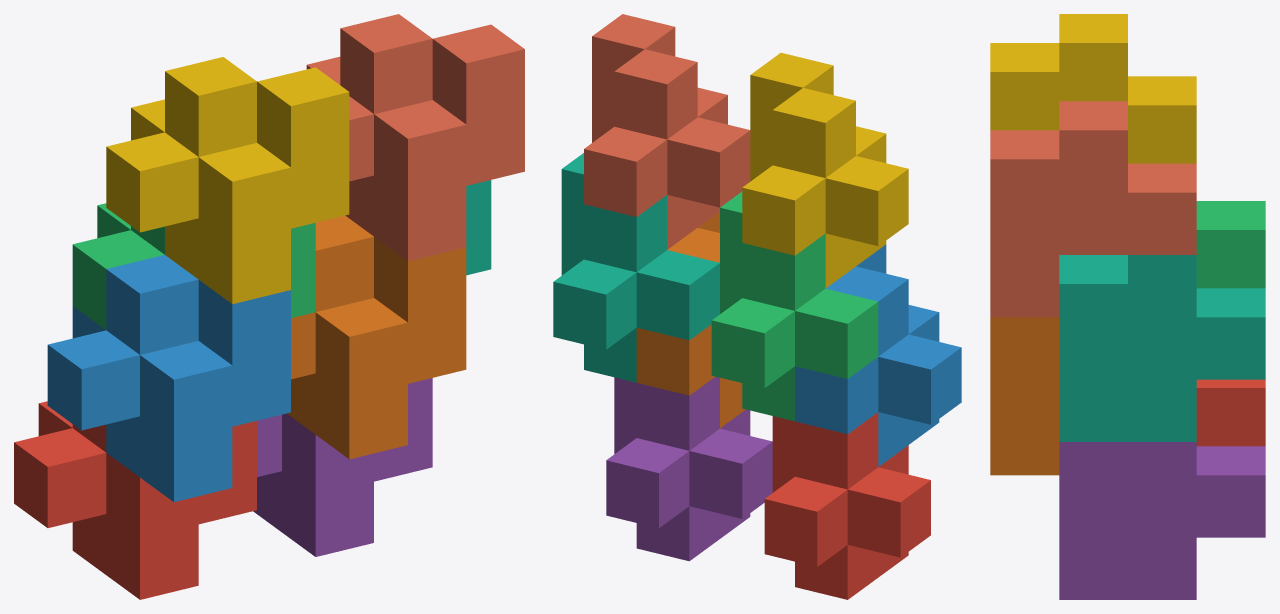
File: tiling.obj
The picture shows the model from 3 angles, left to right: view 1: azimuth 30°, elevation 25°; view 2: azimuth 150°, elevation 25°; view 3: azimuth 270°, elevation 25°; orthographic projection. The views are drawn at different scales.
Visible parts, largest first — view 1: copy_1_domain_4, copy_1_domain_2, copy_1_domain_8, copy_1_domain_6, copy_1_domain_1, copy_1_domain_5, copy_1_domain_3, copy_1_domain_7; view 2: copy_1_domain_4, copy_1_domain_8, copy_1_domain_1, copy_1_domain_5, copy_1_domain_3, copy_1_domain_7, copy_1_domain_2, copy_1_domain_6; view 3: copy_1_domain_7, copy_1_domain_8, copy_1_domain_5, copy_1_domain_4, copy_1_domain_6, copy_1_domain_3, copy_1_domain_1.
Part boxes in pixels (box(x1,y1,x2,y2)): copy_1_domain_4: box(106, 57, 349, 304); copy_1_domain_2: box(47, 255, 290, 501); copy_1_domain_8: box(306, 14, 524, 261); copy_1_domain_6: box(287, 215, 466, 459); copy_1_domain_1: box(14, 401, 256, 599); copy_1_domain_5: box(253, 378, 432, 556); copy_1_domain_3: box(72, 203, 315, 329); copy_1_domain_7: box(466, 180, 491, 275); copy_1_domain_4: box(742, 52, 908, 287); copy_1_domain_8: box(584, 14, 750, 249); copy_1_domain_1: box(764, 412, 930, 599); copy_1_domain_5: box(606, 376, 772, 561); copy_1_domain_3: box(711, 191, 878, 421); copy_1_domain_7: box(553, 153, 719, 382); copy_1_domain_2: box(795, 244, 961, 466); copy_1_domain_6: box(636, 211, 745, 428); copy_1_domain_7: box(1059, 255, 1265, 441); copy_1_domain_8: box(990, 101, 1196, 317); copy_1_domain_5: box(1059, 442, 1265, 599); copy_1_domain_4: box(990, 14, 1196, 163); copy_1_domain_6: box(990, 317, 1059, 475); copy_1_domain_3: box(1196, 201, 1265, 288); copy_1_domain_1: box(1196, 379, 1265, 446).
Size of the model in its own units: 7 by 8 by 4.
